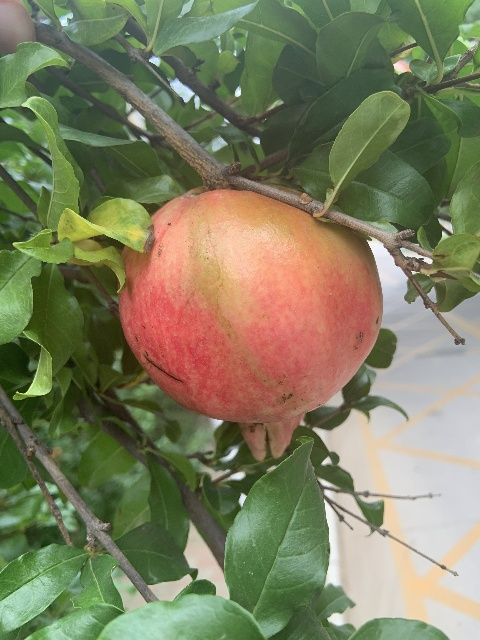ripe: (119, 189, 381, 463)
